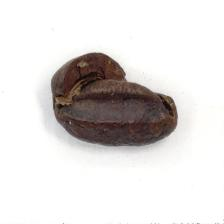NG: (52, 51, 178, 124)
